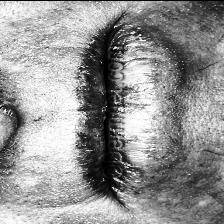Potentially Malignant Skin Tumors: (114, 38, 144, 62)
